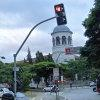traffic lights: (55, 6, 66, 26)
